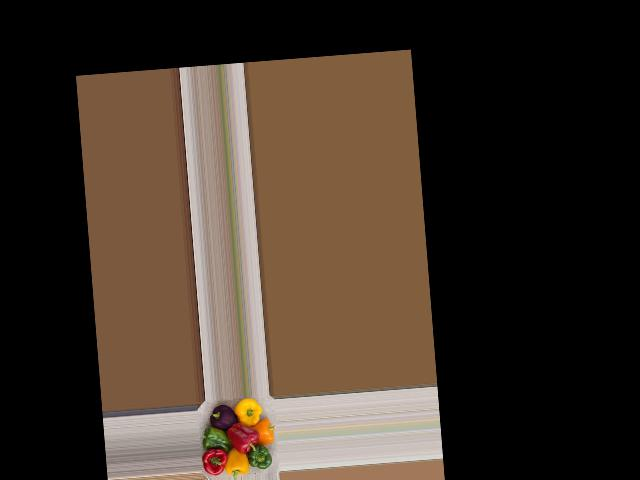bell_pepper: (202, 404, 239, 437)
